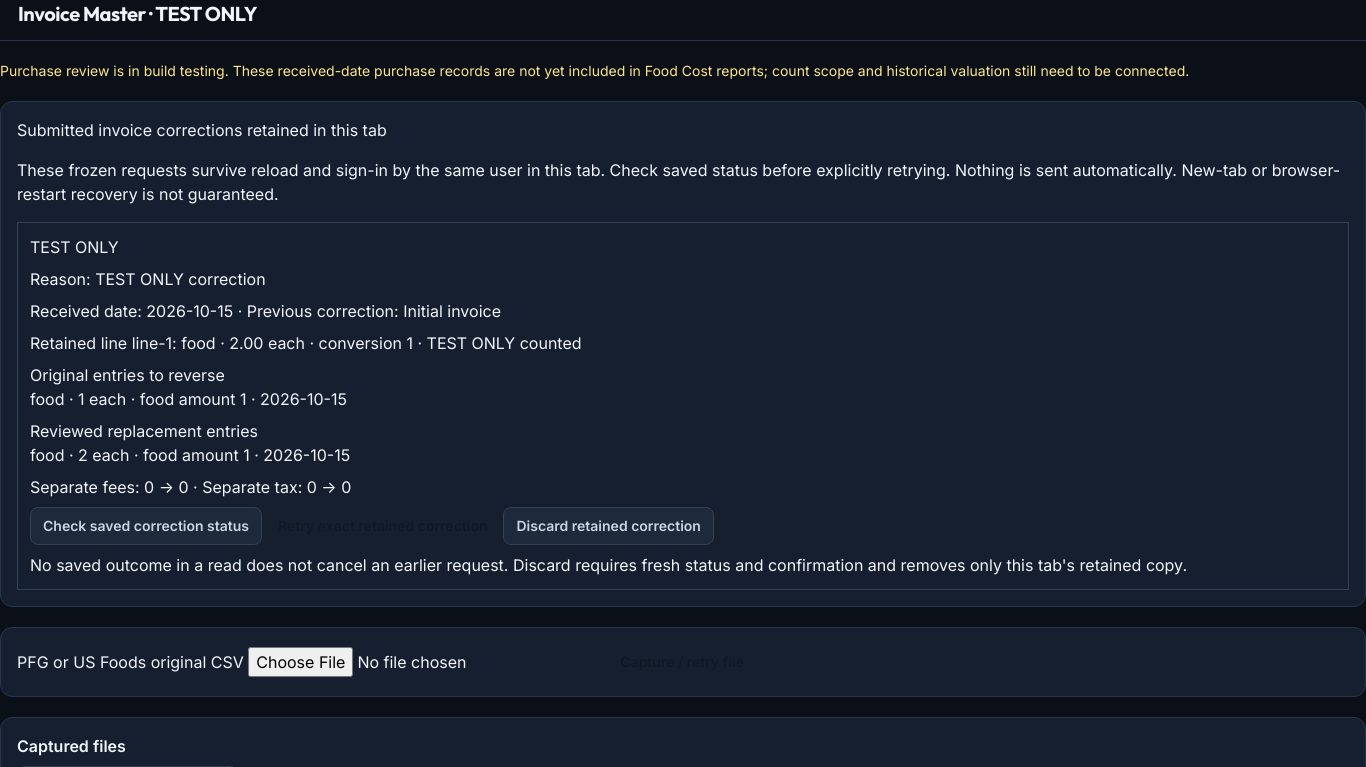
Test: reload and same-user sign-in recover the exact request only after fresh status and manual retry
Expected: the button "Retry exact retained correction" is disabled, [262, 508, 504, 544]
Click the button "Check saved correction status" at (146, 526), box [30, 507, 262, 545]
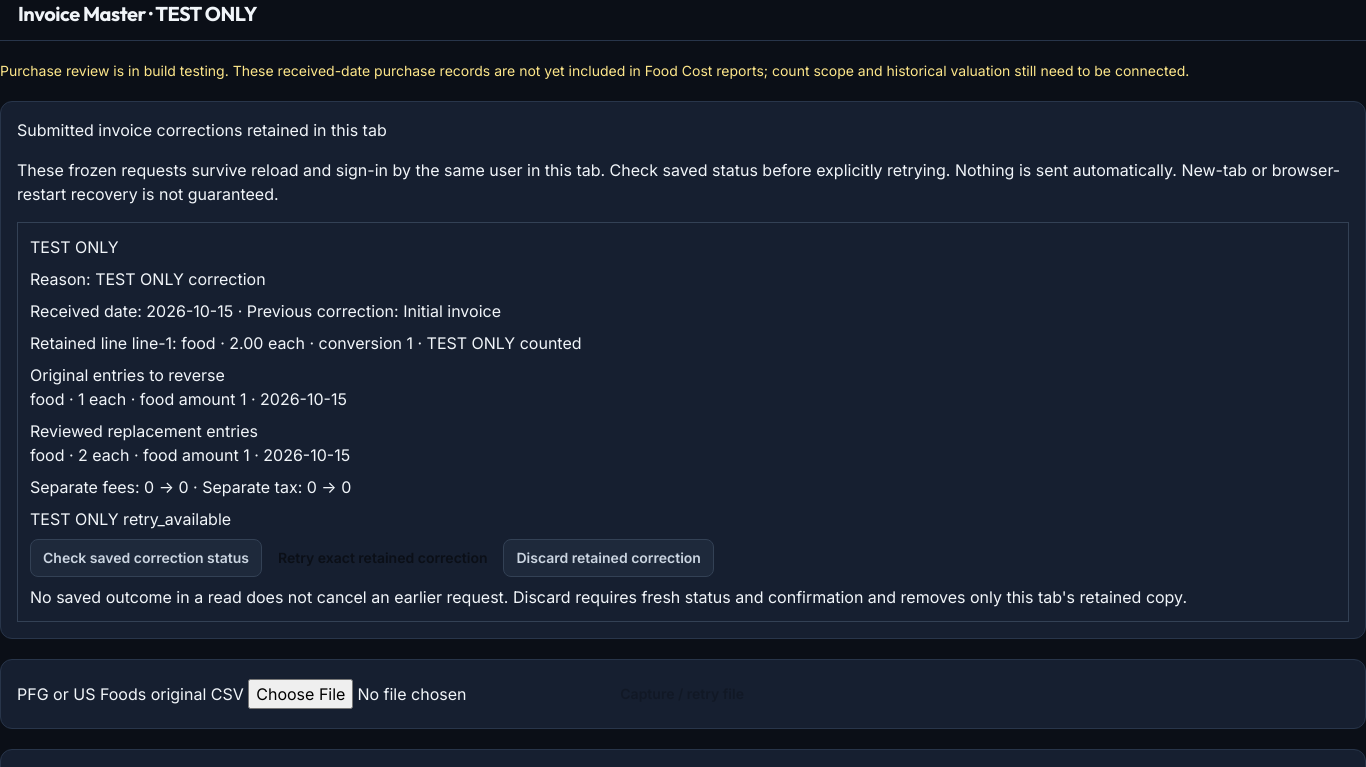
Click the button "Retry exact retained correction" at (383, 558), box [262, 540, 504, 576]
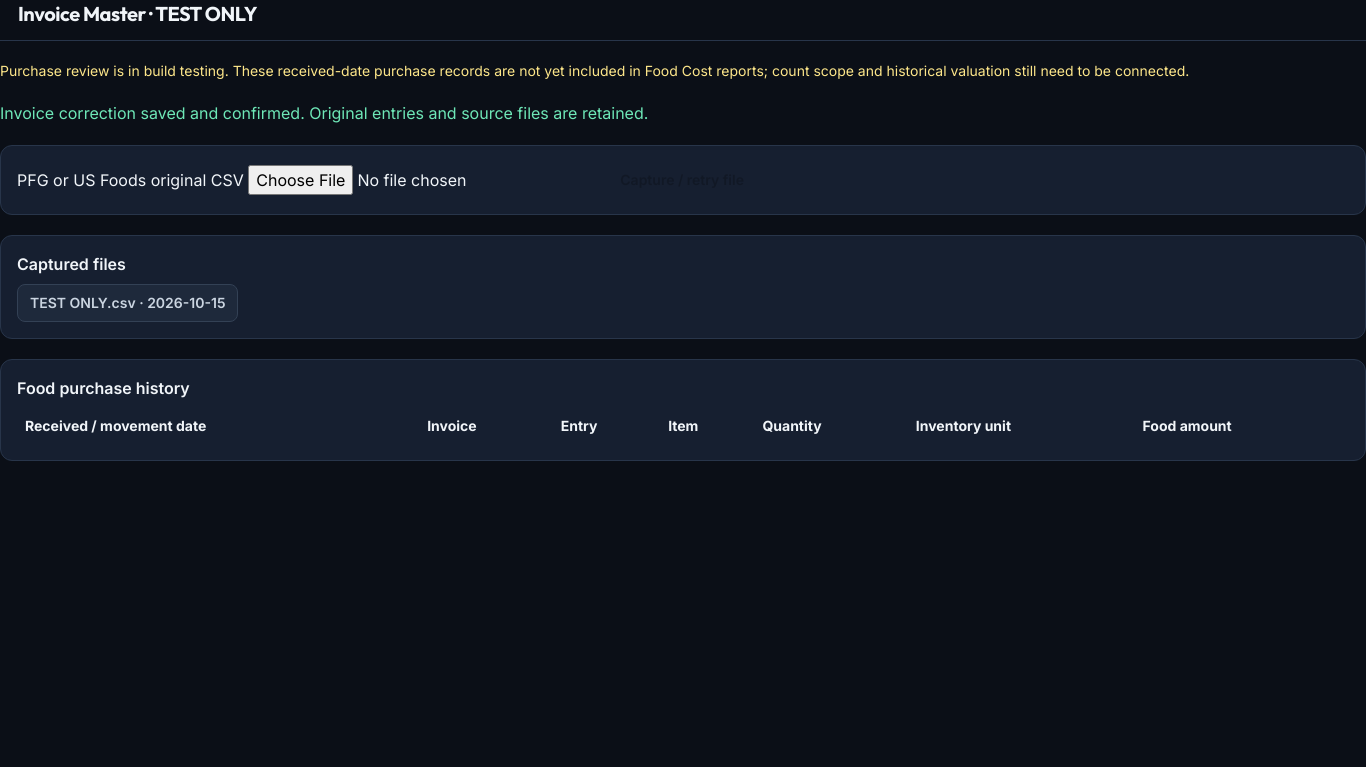
Expected: the text "Invoice correction saved and confirmed" is shown, [0, 103, 648, 123]
